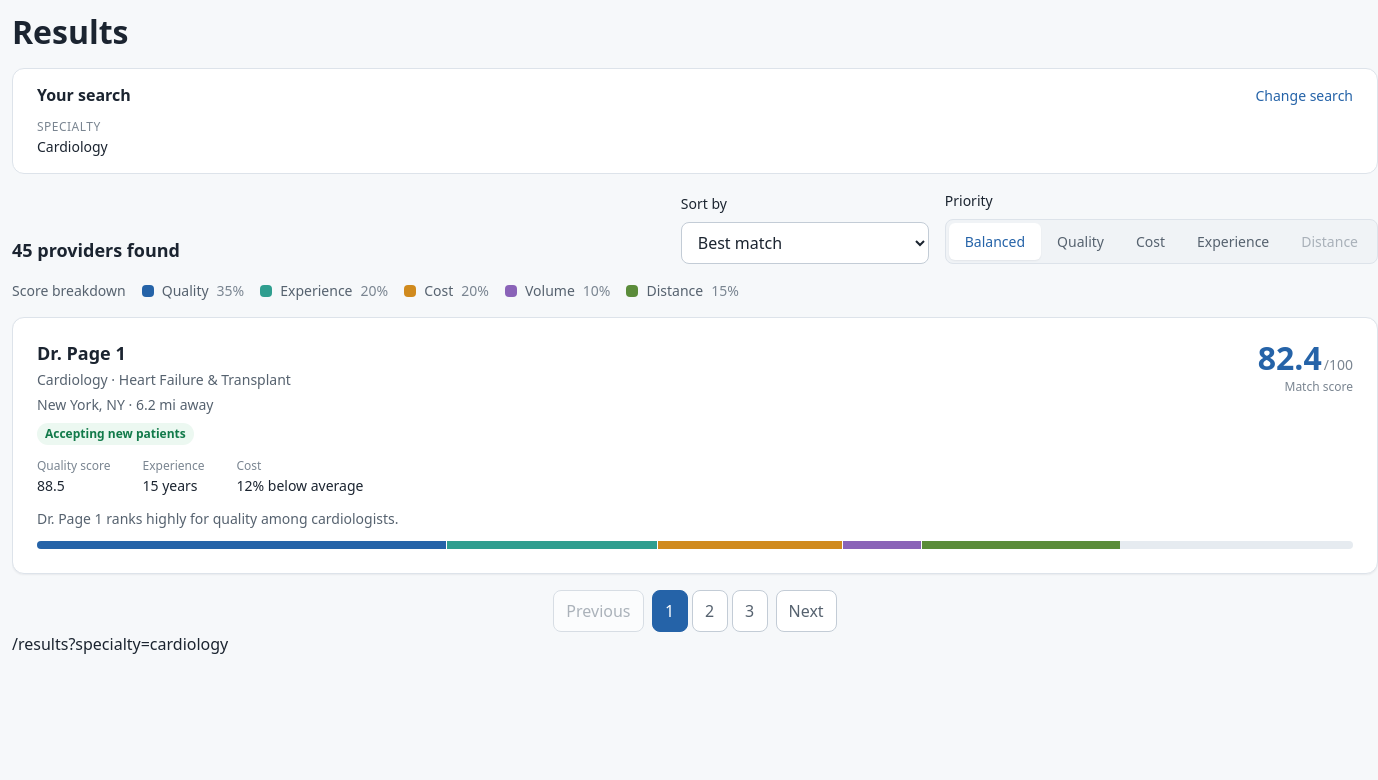
Test case: ResultsPage › pages through the results, updating the URL and scrolling to the top
Expected: the element "Dr. Page 1" is shown, [12,317,1377,574]
Expected: the button "Previous" is disabled, [553,590,644,632]
Click the button "Next".
click(806, 610)  # box [776,590,837,632]
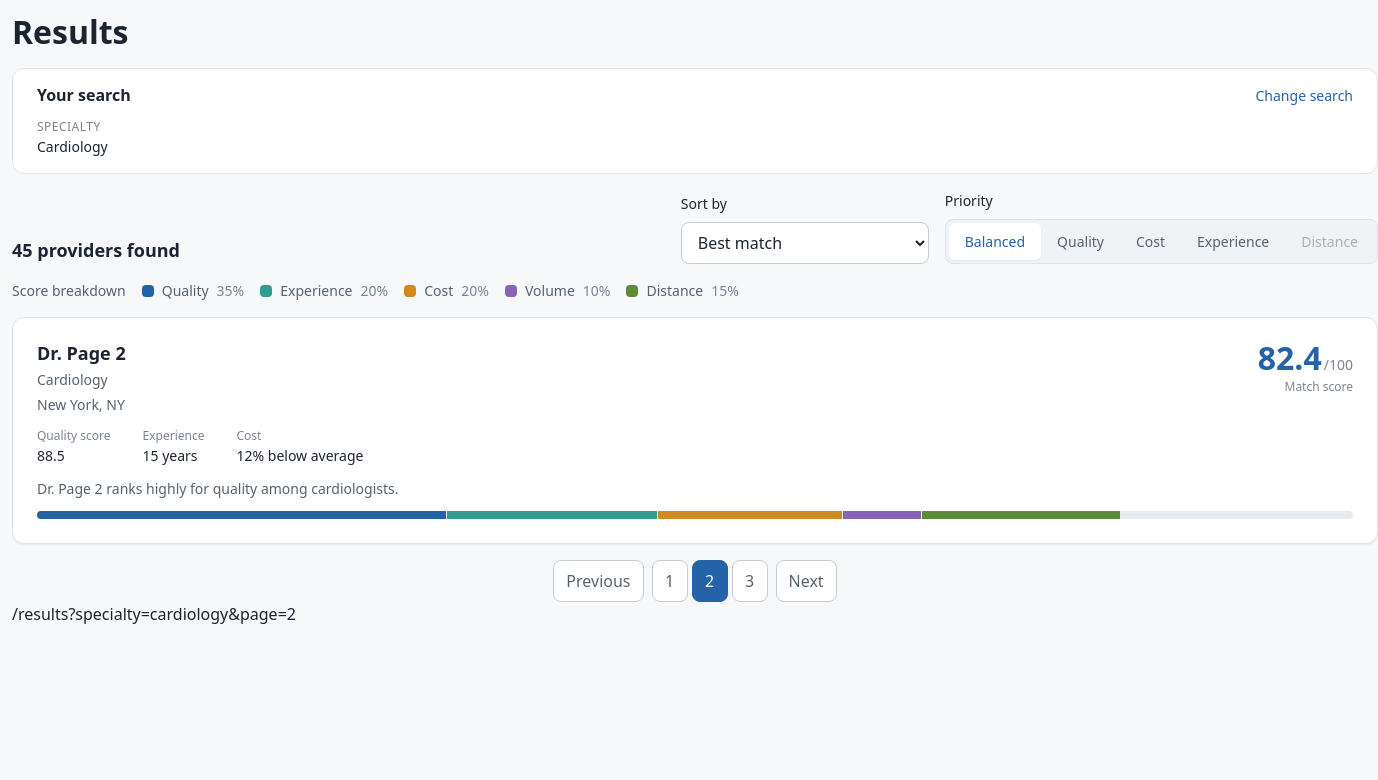
Now the element "Dr. Page 2" is shown, box [12,317,1377,544]
Click the button named "Page 3".
click(750, 580)  # box [732,560,768,602]
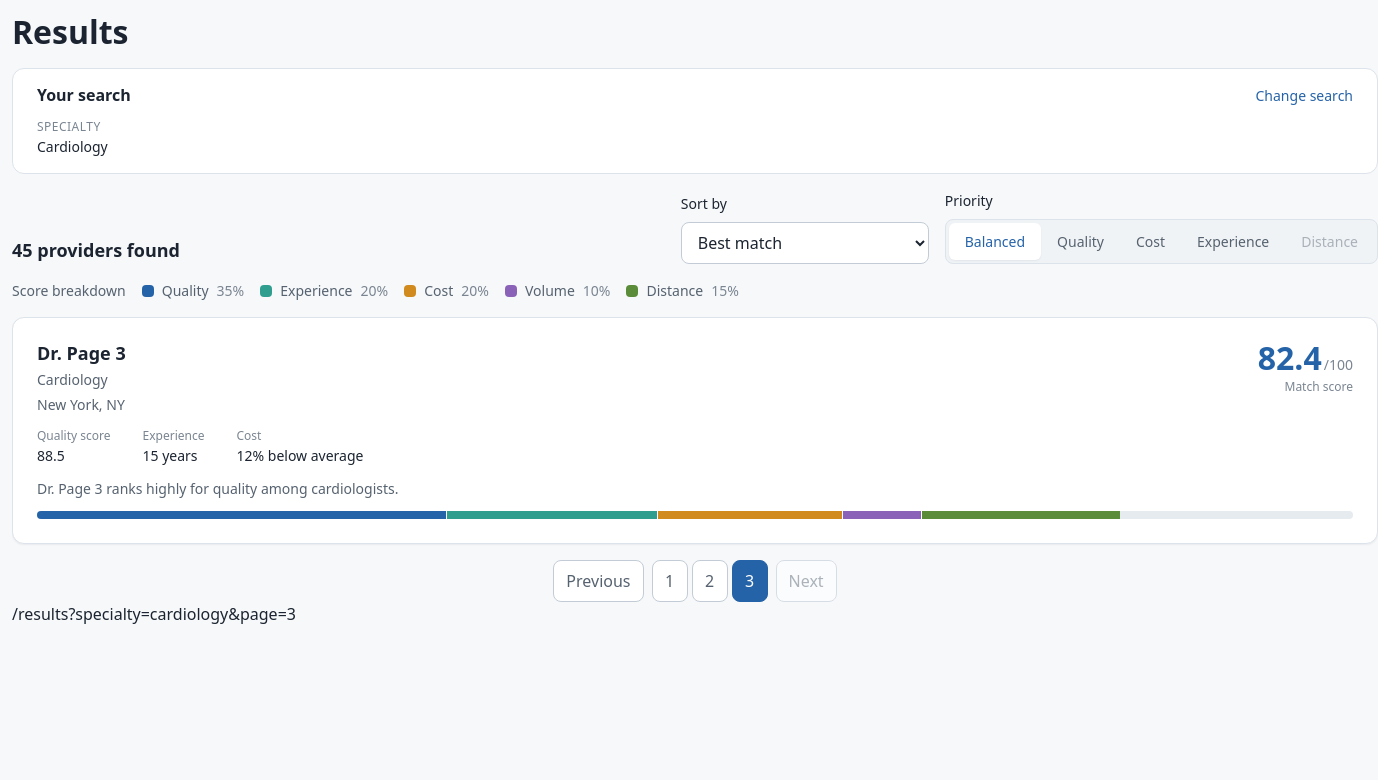
Now the element "Dr. Page 3" is shown, box [12,317,1377,544]
Now the button "Next" is disabled, box [776,560,837,602]
Click the button named "Page 1".
click(670, 580)  # box [652,560,688,602]
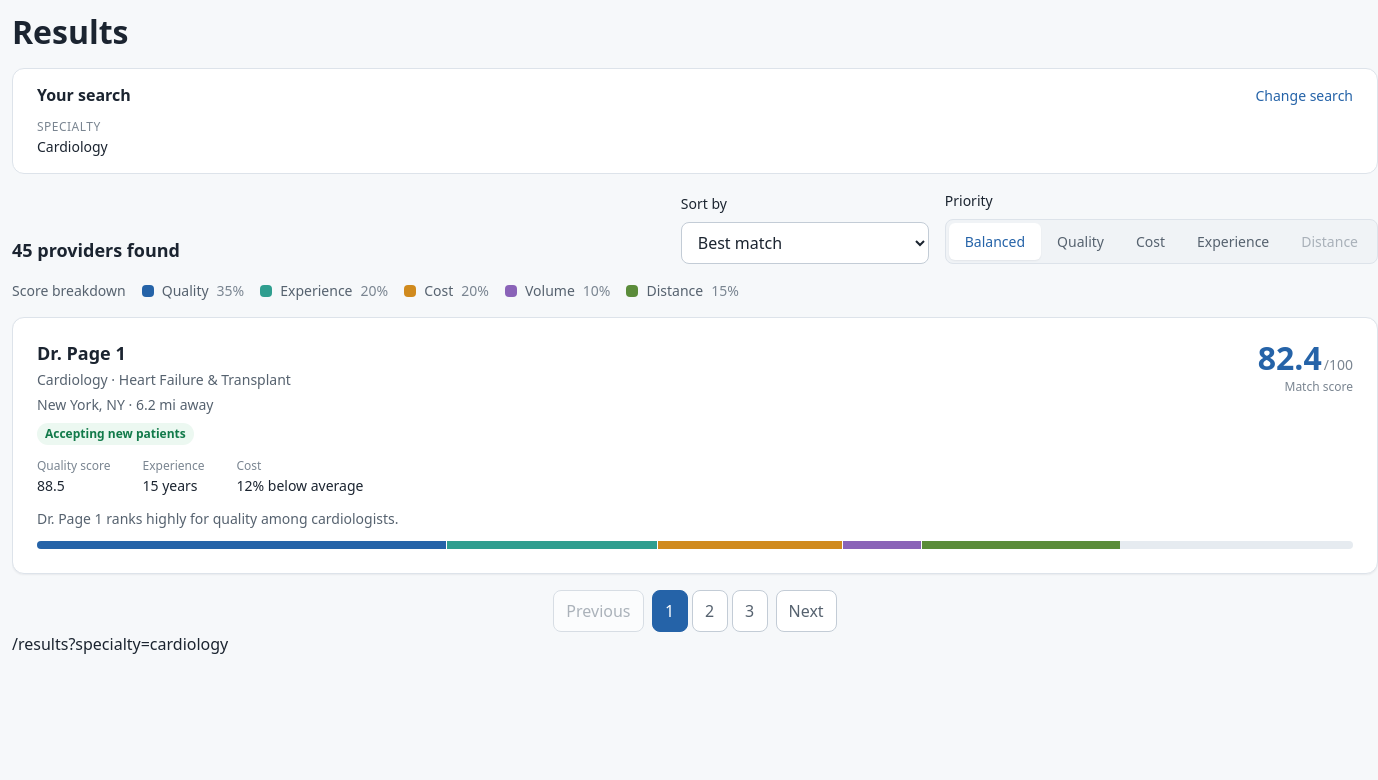
Now the element "Dr. Page 1" is shown, box [12,317,1377,574]
